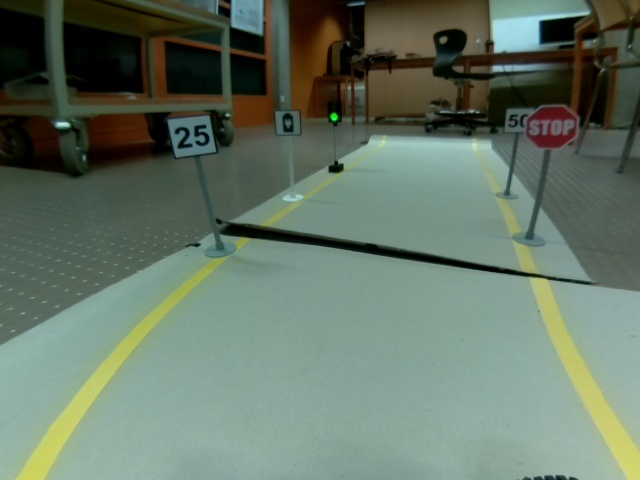battery: (273, 109, 303, 137)
speed25: (165, 113, 218, 160)
speed50: (503, 106, 536, 134)
stop: (525, 104, 580, 150)
trafficLightGreen: (327, 100, 342, 123)
